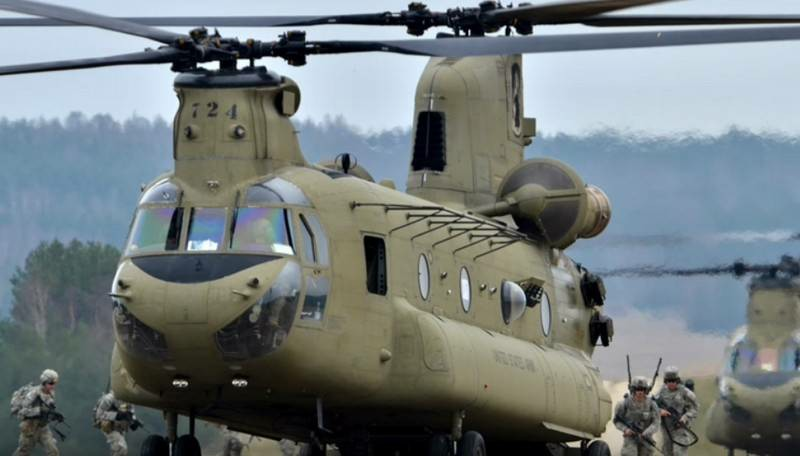chinook: (60, 30, 654, 455)
